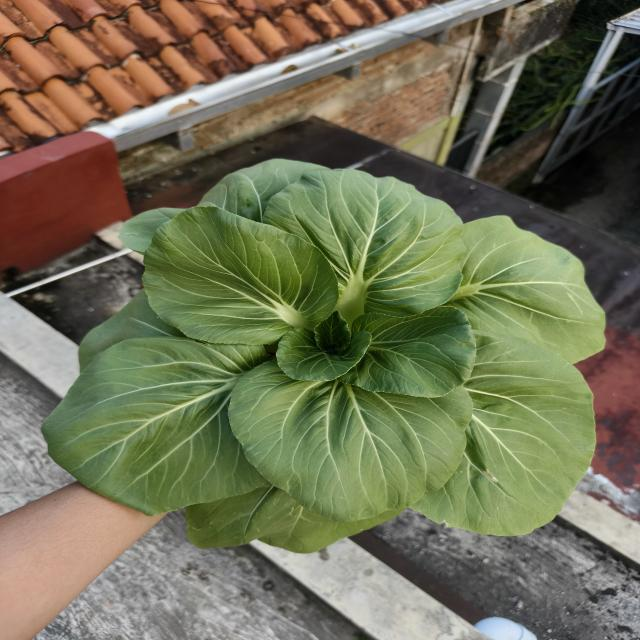daun-pakcoy: (42, 337, 269, 515), (228, 358, 471, 521), (411, 331, 595, 535), (264, 169, 464, 323), (143, 207, 338, 345), (447, 216, 605, 363), (340, 306, 475, 397), (252, 489, 404, 553), (78, 289, 185, 372), (199, 159, 329, 222), (186, 478, 303, 548), (276, 311, 371, 381), (119, 208, 183, 254)
